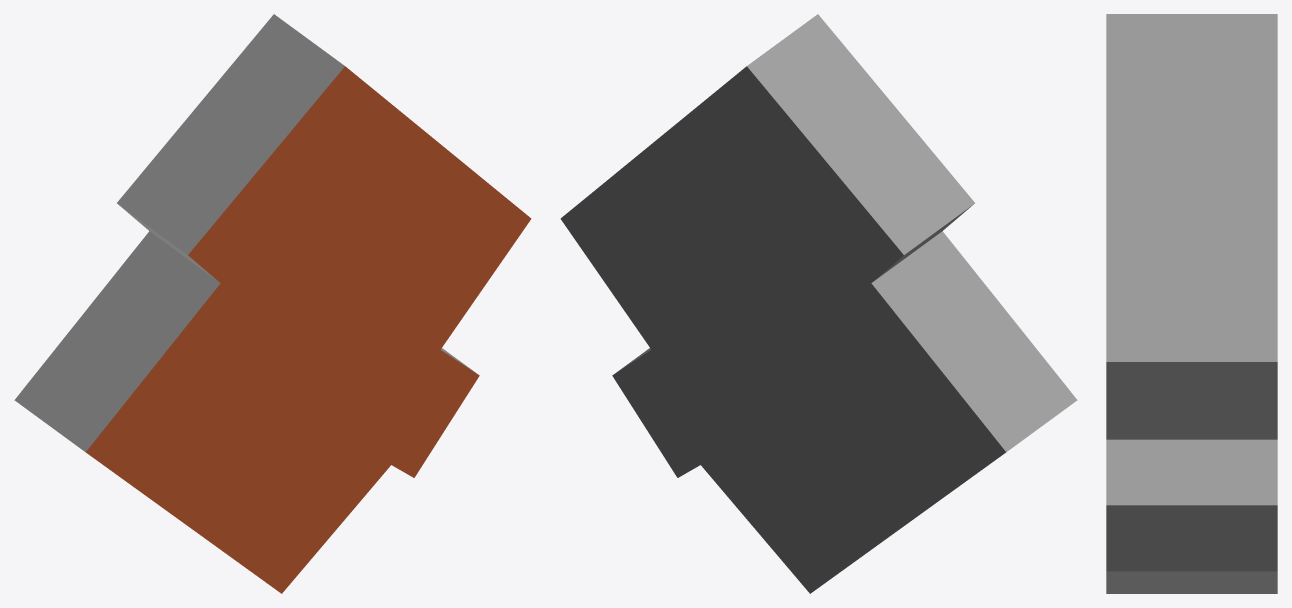
File: construction_0953_assumed_A_Casa_h6m.obj
The picture shows the model from 3 angles, left to right: view 1: azimuth 30°, elevation 25°; view 2: azimuth 150°, elevation 25°; view 3: azimuth 270°, elevation 25°; orthographic projection. The views are drawn at different scales.
Parts seen in each view (by area): view 1: construction_0953_assumed_A_Casa; view 2: construction_0953_assumed_A_Casa; view 3: construction_0953_assumed_A_Casa.
Part boxes in pixels (x1,y1,x2,y2): construction_0953_assumed_A_Casa: (14,14,531,593); construction_0953_assumed_A_Casa: (560,14,1077,593); construction_0953_assumed_A_Casa: (1106,14,1277,593).
Size of the model in its own units: 21.69 by 23.81 by 6.
